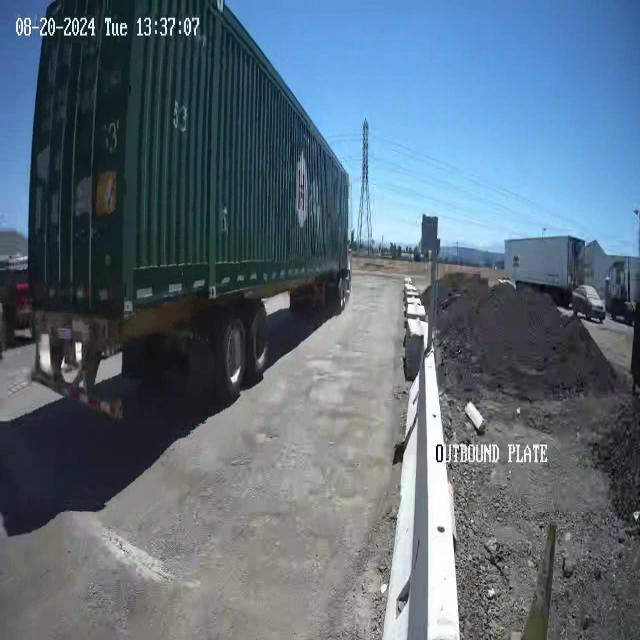TRUCK_CONTAINER: (26, 1, 352, 410)
